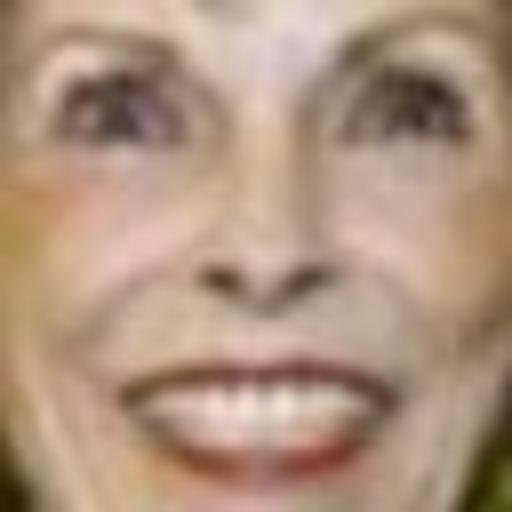left_lip_corner: (369, 367, 417, 432)
right_lip_corner: (113, 366, 163, 435)
